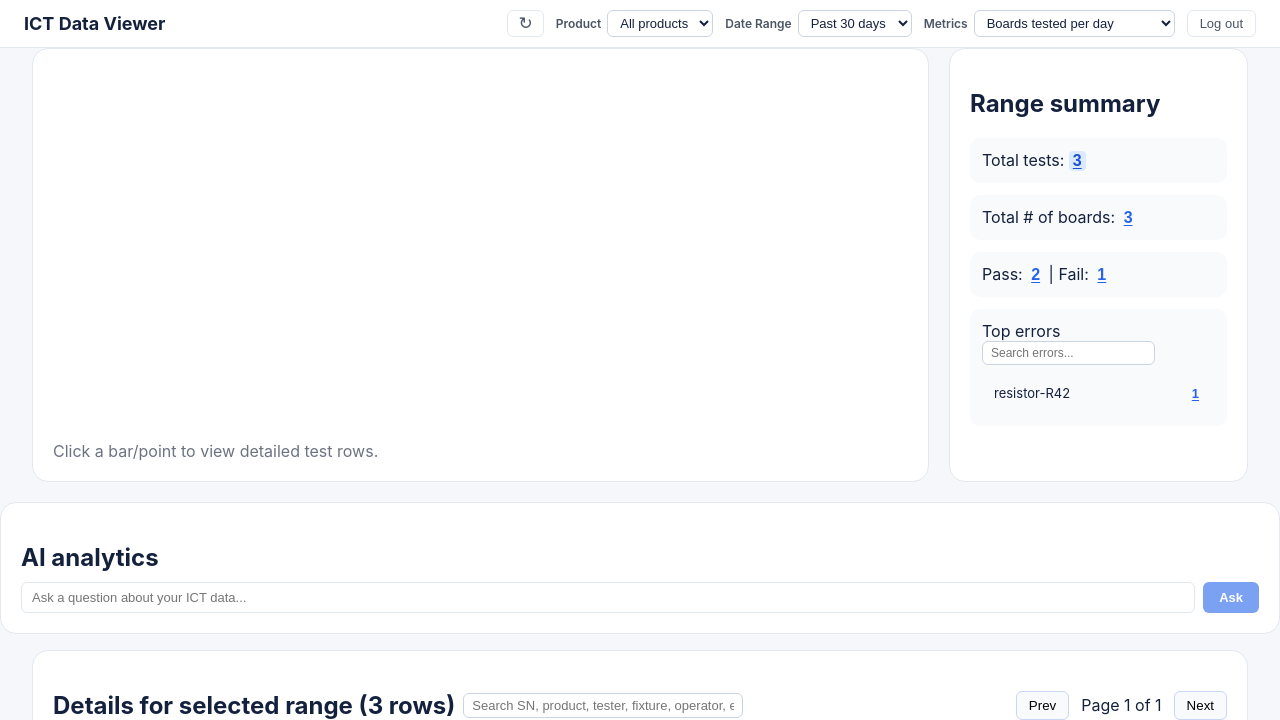
HomePage › U6 — text filter (server-side) › clear button resets textFilter and all rows reappear
Expected: the heading "Details for selected range (3 rows)" is shown, x1=53 y1=691 x2=455 y2=719
In the field with placeholder "Search SN, product, tester, fixture, operator, errors...": (603, 705) x1=463 y1=693 x2=743 y2=718, type "ALPHA"
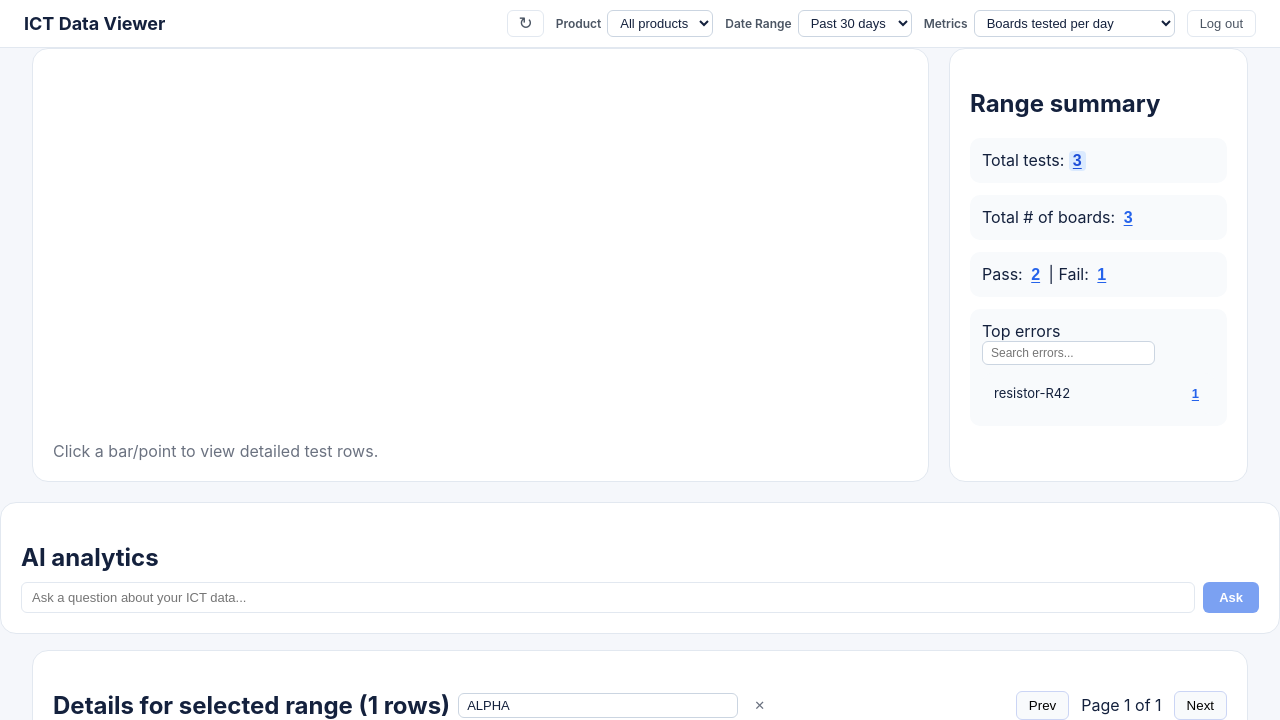
Expected: the heading "Details for selected range (1 rows)" is shown, x1=53 y1=691 x2=450 y2=719
Click the button named "Clear filter": (760, 705) x1=742 y1=692 x2=777 y2=719
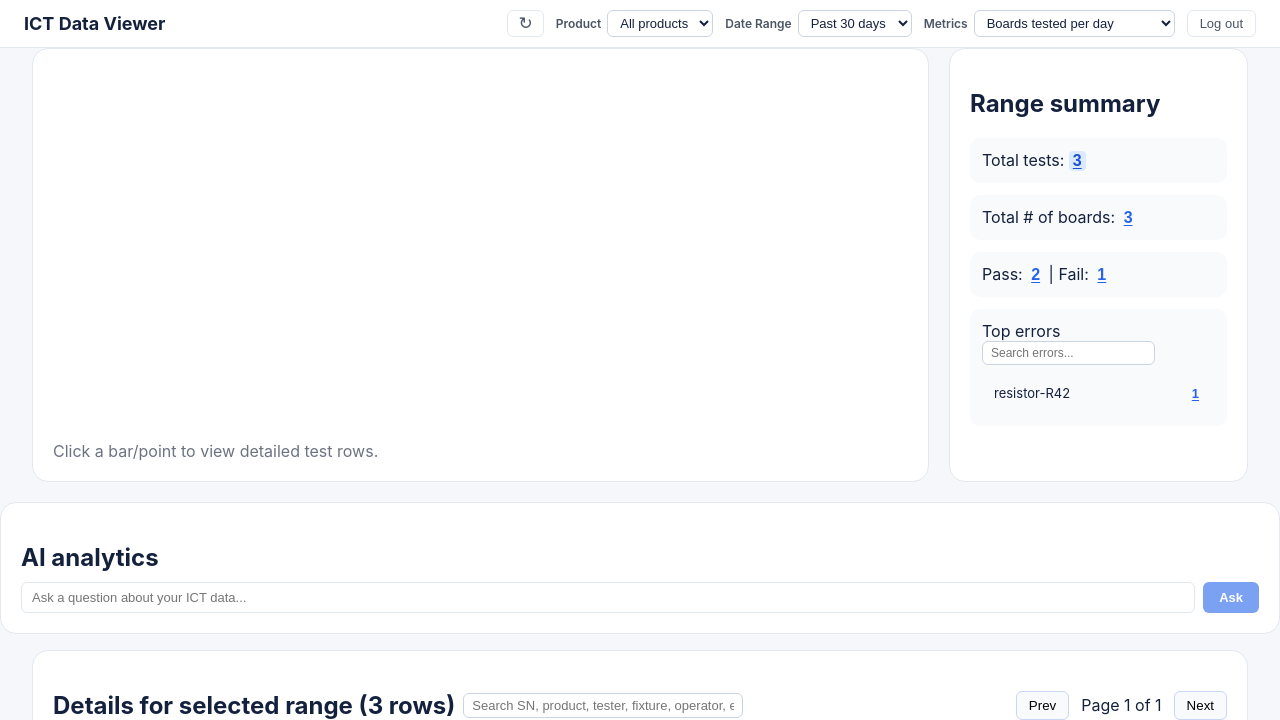
Expected: the heading "Details for selected range (3 rows)" is shown, x1=53 y1=691 x2=455 y2=719
